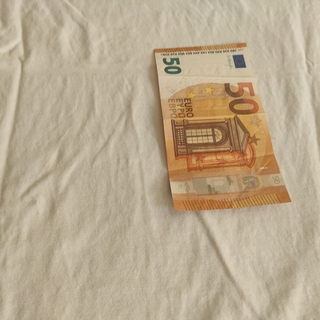50EUROFront: (152, 41, 292, 213)
